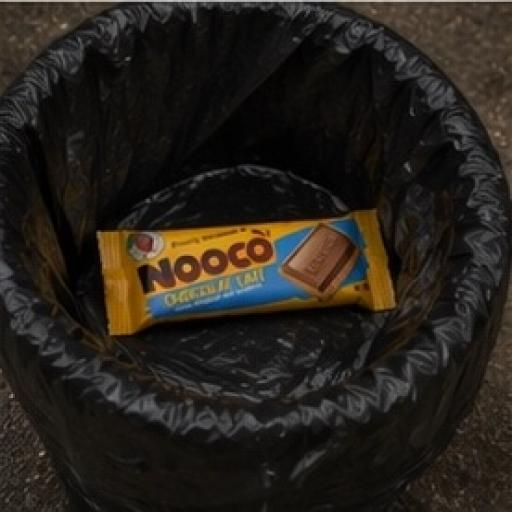nooco: (68, 186, 432, 344)
